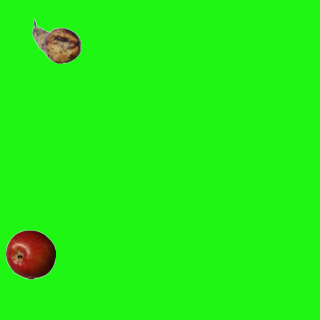Apple Braeburn: (5, 229, 55, 279)
Pear Abate: (31, 16, 81, 66)
